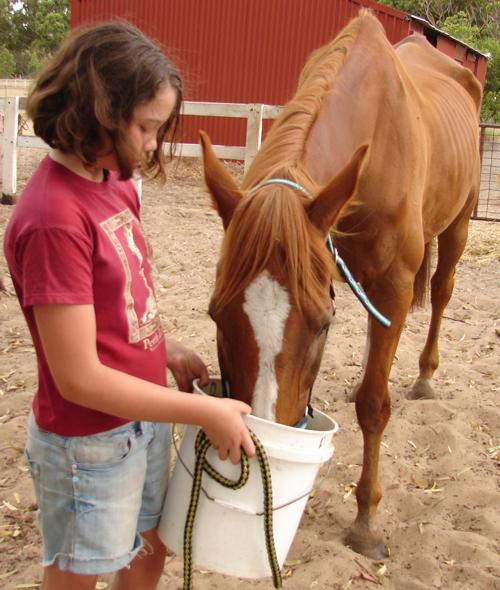person: (5, 15, 255, 590)
